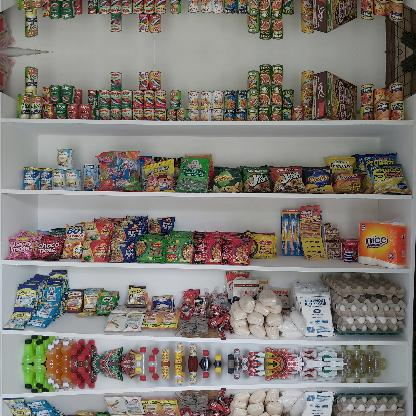Koko-Krunch: (312, 70, 356, 119), (312, 0, 357, 34)
